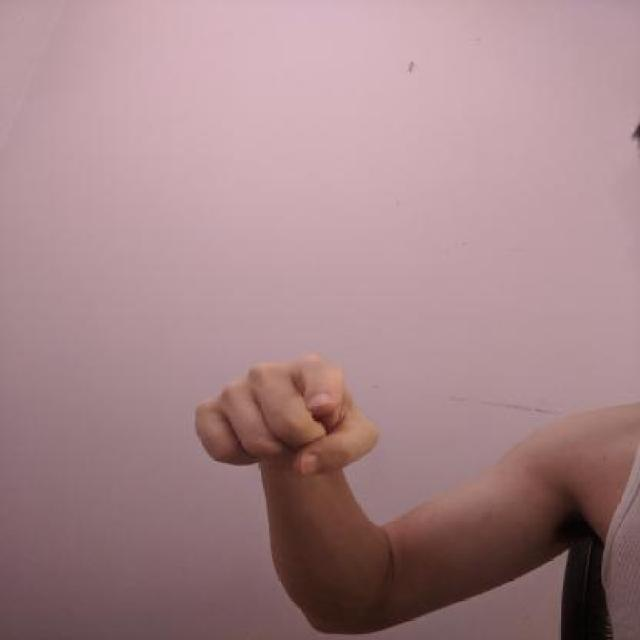Z: (179, 331, 402, 484)
